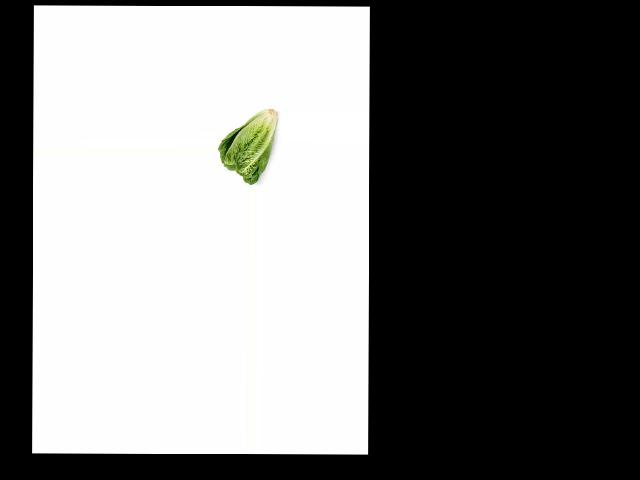lettuce: (218, 107, 279, 184)
